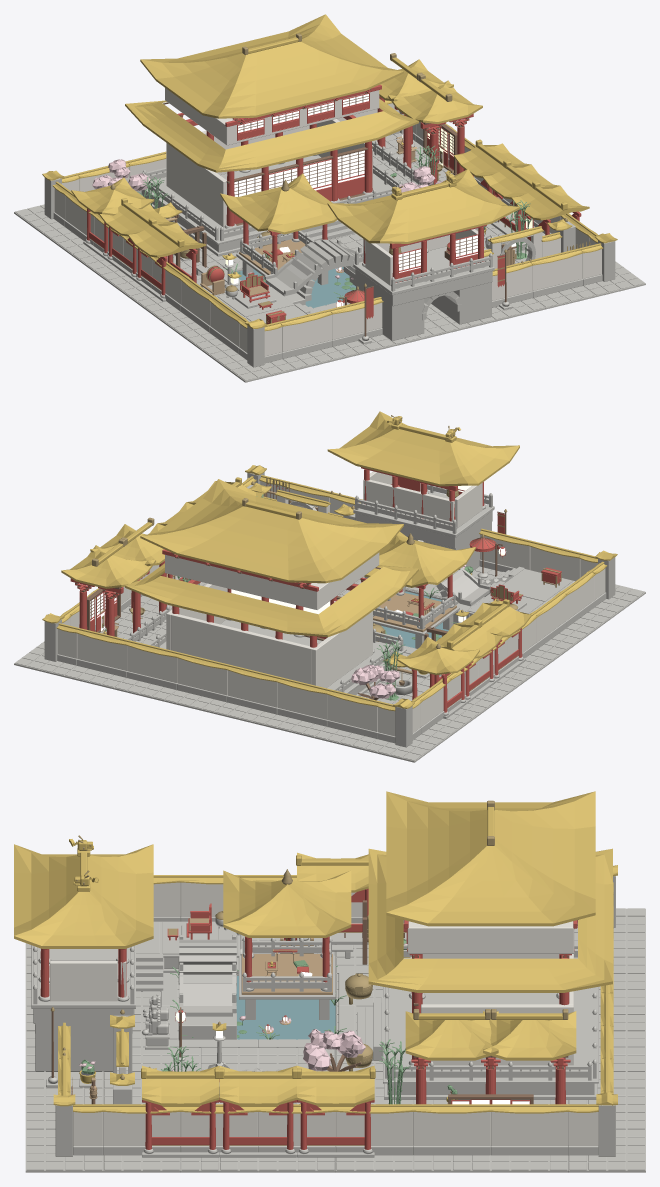
The model's file is imperial_china_palace_and_garden.glb.
3 renders of one model, top to bottom at view 1: azimuth 30°, elevation 25°; view 2: azimuth 150°, elevation 25°; view 3: azimuth 270°, elevation 25°, orthographic. The views are drawn at different scales.
Visible parts, largest first — view 1: 130-ceremonial-hall/5, 131-gate-tower/5, 131-gate-tower/0, 130-ceremonial-hall/2, 130-ceremonial-hall/0, 134-water-pavilion/4, 130-ceremonial-hall/1, 135-arched-stone-bridge/0, 120-roof-cassette-hip/0, 130-ceremonial-hall/3, 102-covered-walkway-bay/4, 106-covered-walkway-bay/4 (+43 smaller); view 2: 130-ceremonial-hall/5, 130-ceremonial-hall/2, 131-gate-tower/5, 131-gate-tower/0, 131-gate-tower/2, 134-water-pavilion/4, 130-ceremonial-hall/0, 121-roof-cassette-hip/0, 103-covered-walkway-corner/4, 134-water-pavilion/0, 102-covered-walkway-bay/4, 101-covered-walkway-bay/4 (+40 smaller); view 3: 130-ceremonial-hall/5, 131-gate-tower/5, 130-ceremonial-hall/0, 130-ceremonial-hall/2, 134-water-pavilion/4, 131-gate-tower/0, 135-arched-stone-bridge/0, 134-water-pavilion/0, 121-roof-cassette-hip/0, 120-roof-cassette-hip/0, 131-gate-tower/2, 104-covered-walkway-bay/4 (+65 smaller).
Part boxes in pixels (left/top/right/bottom): 130-ceremonial-hall/5: left=125, top=14, right=418, bottom=172; 131-gate-tower/5: left=327, top=169, right=519, bottom=243; 131-gate-tower/0: left=353, top=246, right=494, bottom=340; 130-ceremonial-hall/2: left=165, top=88, right=379, bottom=227; 130-ceremonial-hall/0: left=141, top=154, right=402, bottom=256; 134-water-pavilion/4: left=220, top=173, right=337, bottom=234; 130-ceremonial-hall/1: left=177, top=84, right=381, bottom=226; 135-arched-stone-bridge/0: left=264, top=239, right=362, bottom=305; 120-roof-cassette-hip/0: left=388, top=80, right=482, bottom=124; 130-ceremonial-hall/3: left=234, top=94, right=368, bottom=196; 102-covered-walkway-bay/4: left=128, top=219, right=205, bottom=257; 106-covered-walkway-bay/4: left=511, top=182, right=589, bottom=220; 130-ceremonial-hall/5: left=125, top=479, right=418, bottom=637; 130-ceremonial-hall/2: left=165, top=552, right=379, bottom=688; 131-gate-tower/5: left=327, top=411, right=519, bottom=486; 131-gate-tower/0: left=353, top=484, right=494, bottom=570; 131-gate-tower/2: left=363, top=471, right=482, bottom=528; 134-water-pavilion/4: left=364, top=531, right=475, bottom=587; 130-ceremonial-hall/0: left=148, top=619, right=406, bottom=696; 121-roof-cassette-hip/0: left=61, top=545, right=155, bottom=588; 103-covered-walkway-corner/4: left=397, top=637, right=479, bottom=675; 134-water-pavilion/0: left=373, top=590, right=459, bottom=648; 102-covered-walkway-bay/4: left=455, top=599, right=531, bottom=637; 101-covered-walkway-bay/4: left=436, top=620, right=502, bottom=658; 130-ceremonial-hall/5: left=368, top=791, right=612, bottom=992; 131-gate-tower/5: left=14, top=844, right=153, bottom=948; 130-ceremonial-hall/0: left=357, top=944, right=598, bottom=1099; 130-ceremonial-hall/2: left=407, top=921, right=574, bottom=1065; 134-water-pavilion/4: left=223, top=870, right=351, bottom=937; 131-gate-tower/0: left=31, top=945, right=135, bottom=1071; 135-arched-stone-bridge/0: left=178, top=935, right=236, bottom=1039; 134-water-pavilion/0: left=239, top=937, right=335, bottom=1019; 121-roof-cassette-hip/0: left=483, top=1011, right=576, bottom=1060; 120-roof-cassette-hip/0: left=405, top=1011, right=498, bottom=1060; 131-gate-tower/2: left=50, top=960, right=126, bottom=1001; 104-covered-walkway-bay/4: left=297, top=1065, right=375, bottom=1105.
Bounding box in the file's own units: 32 × 13.11 × 32.6.
